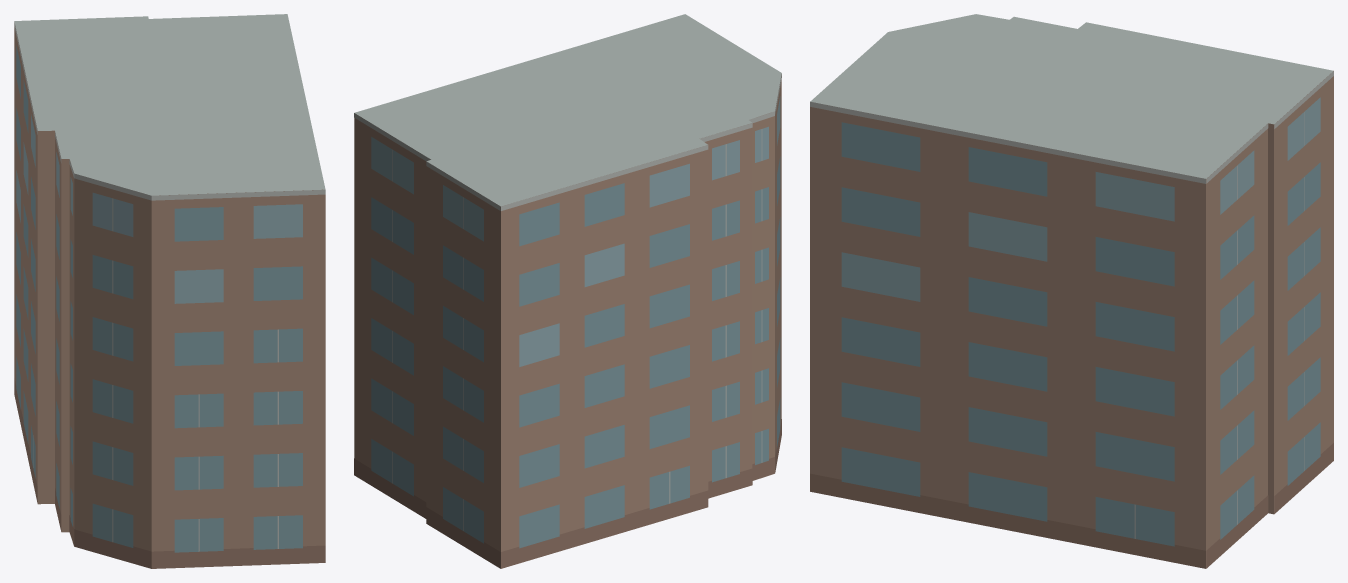
File: survey-upis-32706161.glb
3 views of the same model, side by side, from view 1: azimuth 30°, elevation 25°; view 2: azimuth 150°, elevation 25°; view 3: azimuth 270°, elevation 25° (orthographic). The views are drawn at different scales.
Parts seen in each view (by area): view 1: survey-upis-32706161.tmp; view 2: survey-upis-32706161.tmp; view 3: survey-upis-32706161.tmp.
Boxes of the visible parts, x1,y1,x2,y2 form: survey-upis-32706161.tmp: (14, 14, 325, 568); survey-upis-32706161.tmp: (354, 14, 781, 568); survey-upis-32706161.tmp: (810, 14, 1333, 568).
Size of the model in its own units: 16.88 by 18.6 by 22.65.
